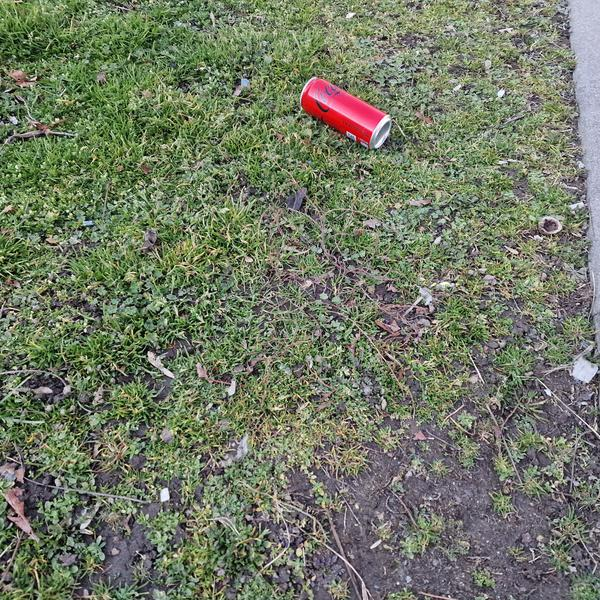can: (293, 72, 398, 153)
